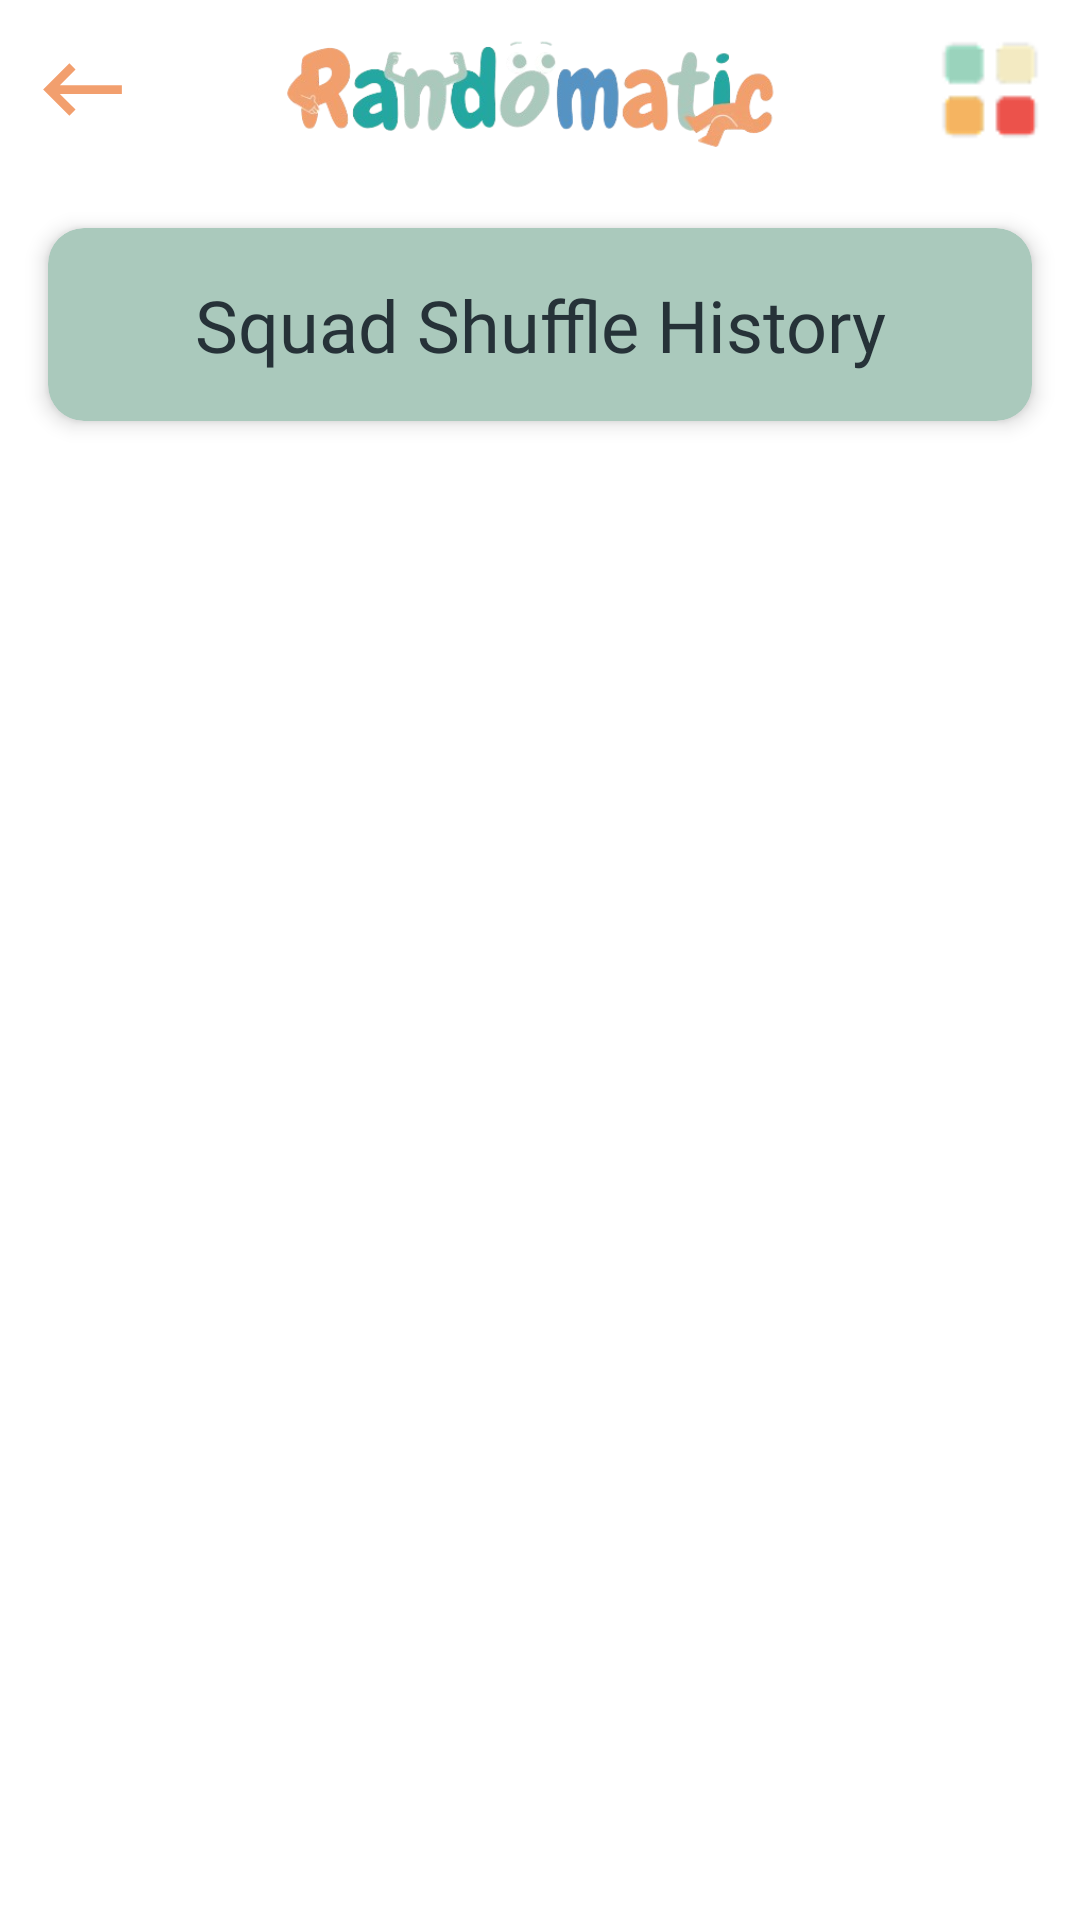

Where to tap for icons on this 1080px x 1920px app screen, as (x=x, y=y):
keyboard backspace: (x=82, y=89)
